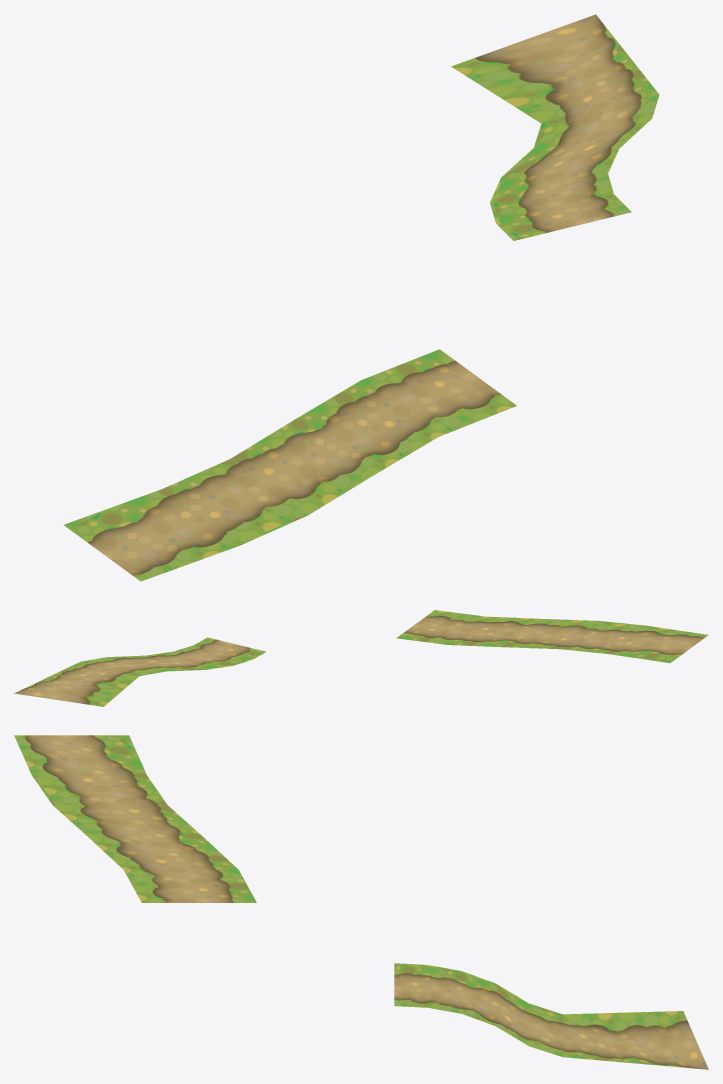
The picture shows the model from 3 angles, top to bottom: view 1: azimuth 30°, elevation 25°; view 2: azimuth 150°, elevation 25°; view 3: azimuth 270°, elevation 25°; orthographic projection. The views are drawn at different scales.
Visible parts, largest first — view 1: Deko_2x2 suburb O; view 2: Deko_2x2 suburb O; view 3: Deko_2x2 suburb O.
Part boxes in pixels (left/top/right/bottom): Deko_2x2 suburb O: left=64, top=14, right=659, bottom=581; Deko_2x2 suburb O: left=14, top=610, right=708, bottom=706; Deko_2x2 suburb O: left=14, top=735, right=708, bottom=1069.
Size of the model in its own units: 15.6 by 0 by 13.69.
Materials: 1 (1 with a texture image).
